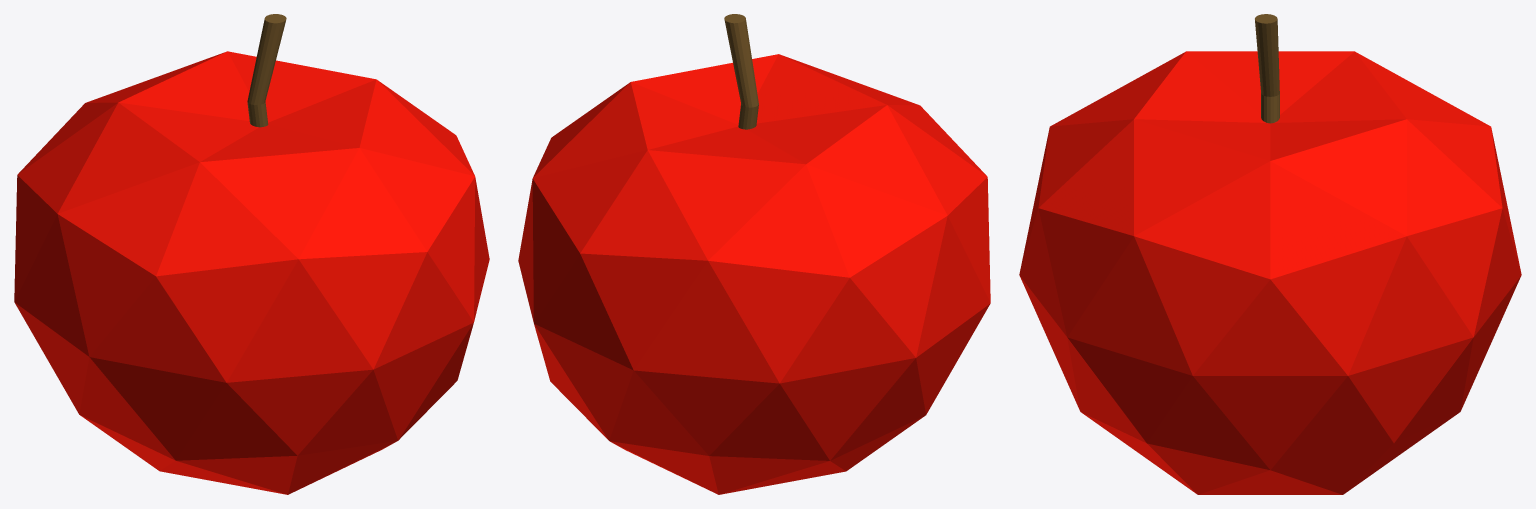
File: low-poly-apple.glb
The picture shows the model from 3 angles, left to right: view 1: azimuth 30°, elevation 25°; view 2: azimuth 150°, elevation 25°; view 3: azimuth 270°, elevation 25°; orthographic projection. The views are drawn at different scales.
Visible parts, largest first — view 1: Apple; view 2: Apple; view 3: Apple.
Part boxes in pixels (<box>): Apple: <box>14,14,489,494</box>; Apple: <box>518,14,990,494</box>; Apple: <box>1019,14,1521,494</box>.
Size of the model in its own units: 2.06 by 2.07 by 2.14.
